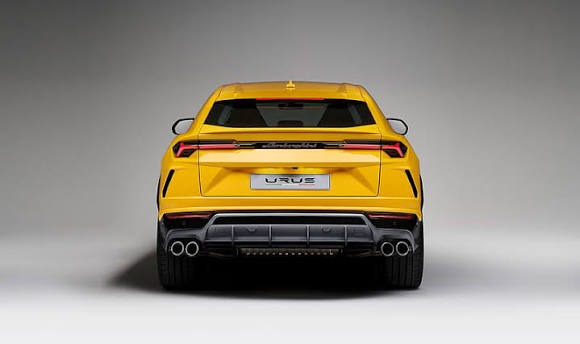car: (147, 80, 421, 286)
